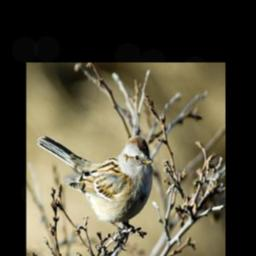Sparrow: (37, 132, 153, 251)
